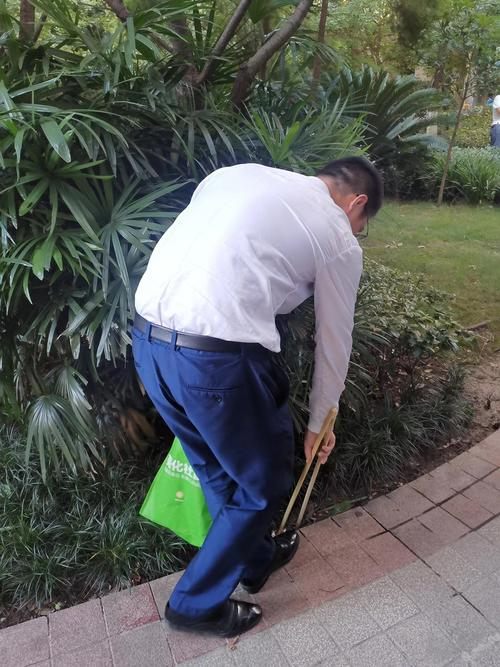bending: (112, 150, 401, 630)
